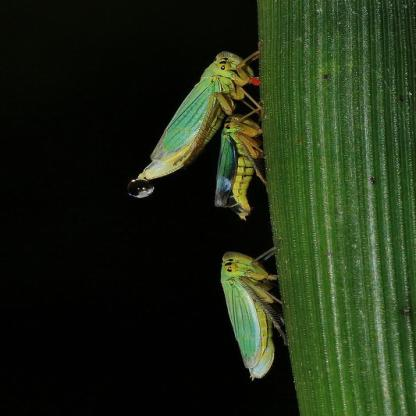Green-Leafhopper: (126, 44, 266, 185), (206, 247, 298, 382), (202, 105, 280, 222)
